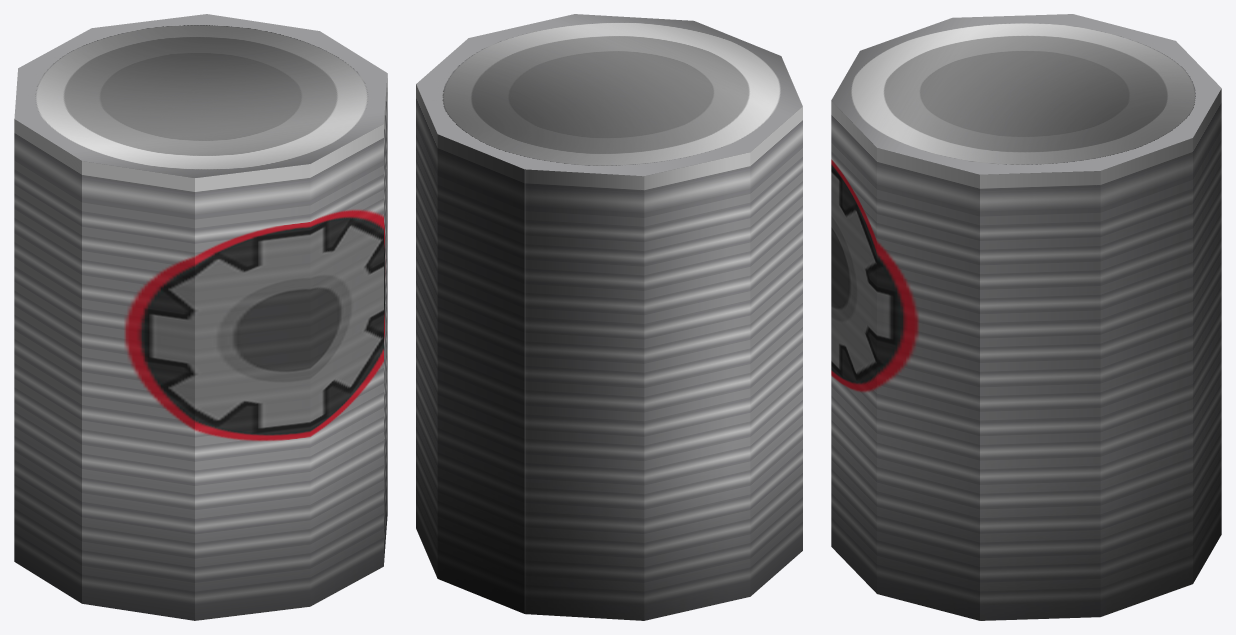
File: oil_can_(plateless).fbx
The picture shows the model from 3 angles, left to right: view 1: azimuth 30°, elevation 25°; view 2: azimuth 150°, elevation 25°; view 3: azimuth 270°, elevation 25°; orthographic projection.
Visible parts, largest first — view 1: can; view 2: can; view 3: can.
Boxes of the visible parts, left/top/right/bottom form: can: left=14, top=14, right=387, bottom=620; can: left=416, top=14, right=802, bottom=620; can: left=831, top=14, right=1221, bottom=620.
Size of the model in its own units: 129 by 167 by 132.
1 material, 1 textured.
